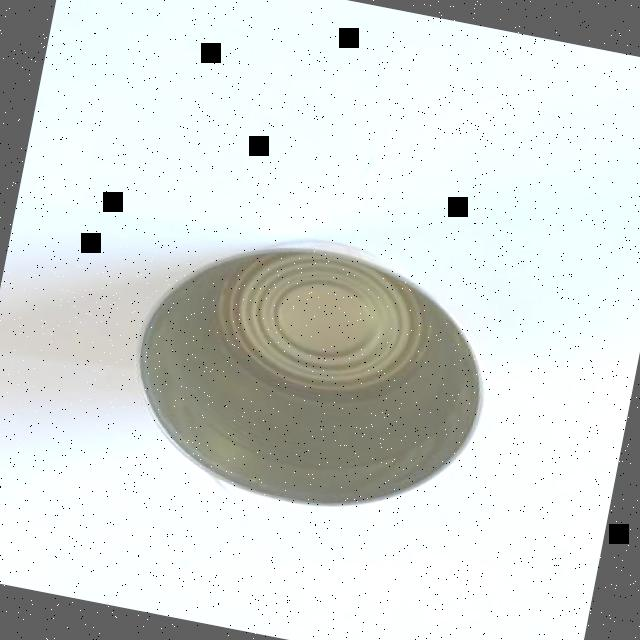can: (110, 206, 510, 536)
